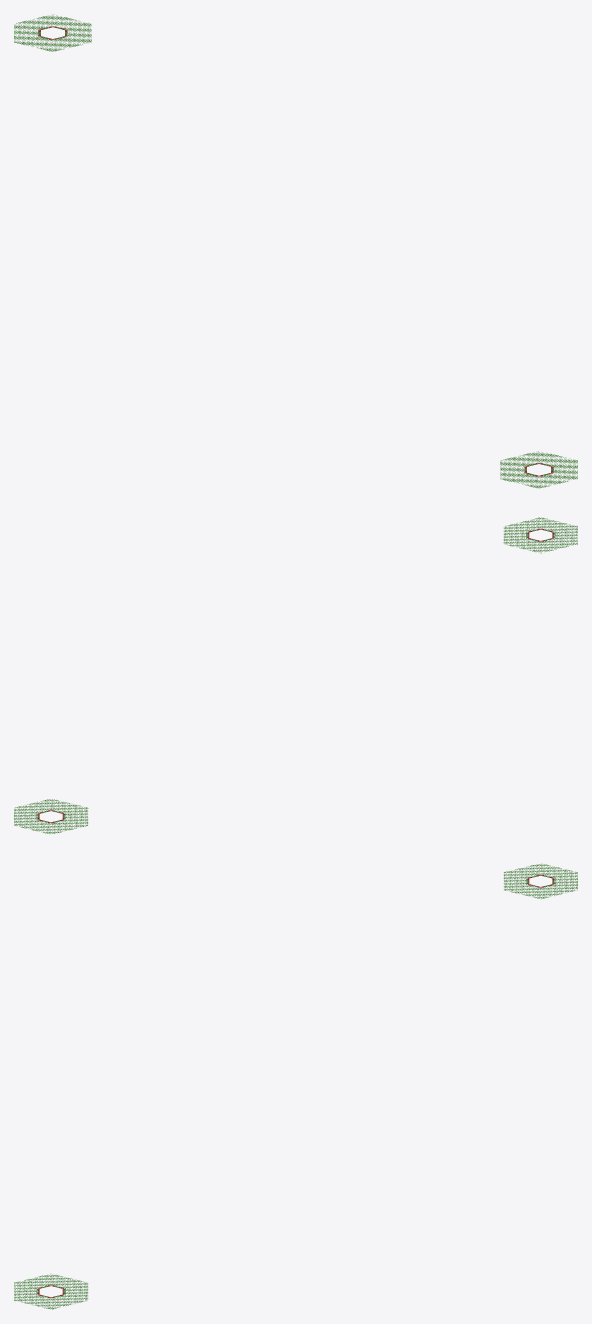
Rendered from S03_PNS_02.OBJ.
The picture shows the model from 3 angles, top to bottom: view 1: azimuth 30°, elevation 25°; view 2: azimuth 150°, elevation 25°; view 3: azimuth 330°, elevation 25°; orthographic projection. The views are drawn at different scales.
Parts seen in each view (by area): view 1: s03_pns_02_0; view 2: s03_pns_02_0; view 3: s03_pns_02_0.
Boxes of the visible parts, x1,y1,x2,y2 form: s03_pns_02_0: [14, 14, 577, 488]; s03_pns_02_0: [14, 517, 577, 833]; s03_pns_02_0: [14, 864, 577, 1309].
Bounding box in the file's own units: 439 × 310 × 4479.
